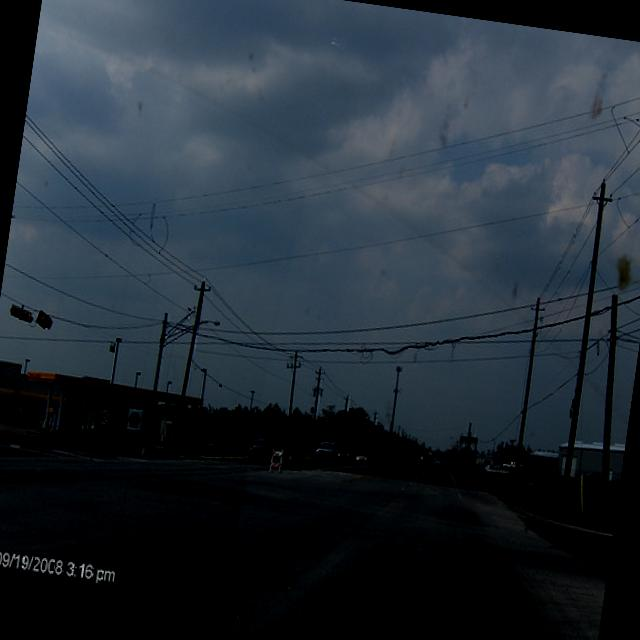Vehicle: (246, 429, 278, 464), (274, 441, 308, 472), (392, 448, 421, 477), (313, 438, 342, 467), (6, 405, 32, 422), (502, 459, 524, 474), (337, 445, 354, 463), (355, 450, 371, 466), (432, 454, 443, 468), (418, 454, 424, 461)
